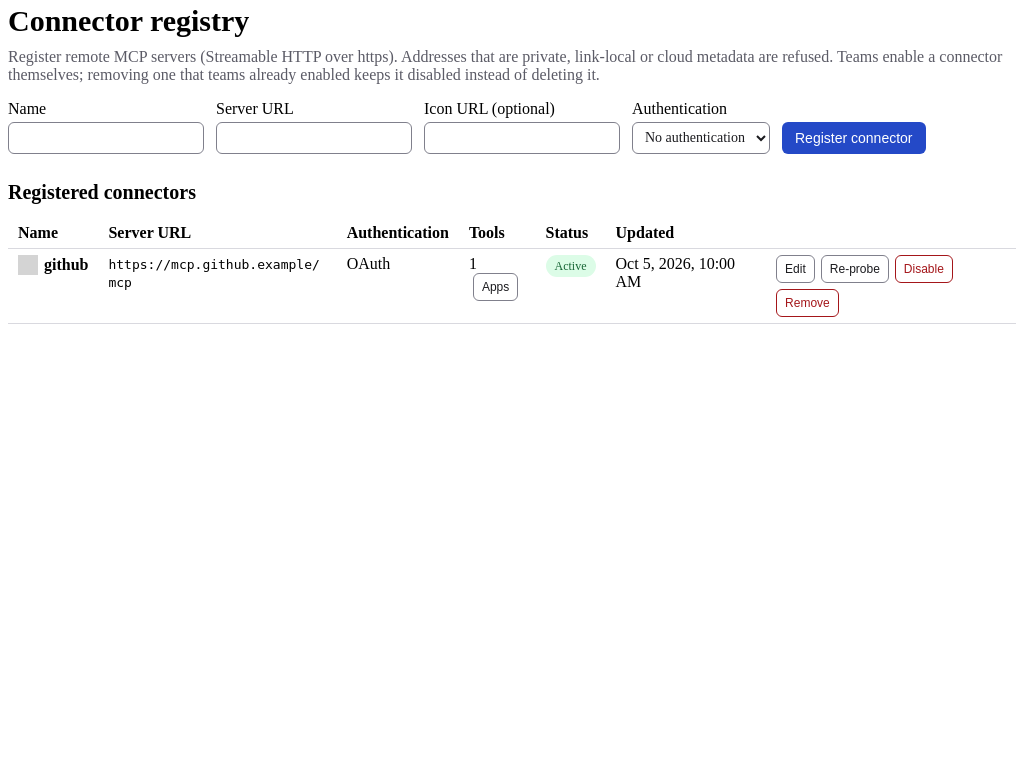
app placement (KOBE-531) › says when it was not saved and keeps the old value
The image size is (1024, 762).
Click the button named "Apps of github". click: (496, 286)
box: [473,272,518,300]
(page scrolled)
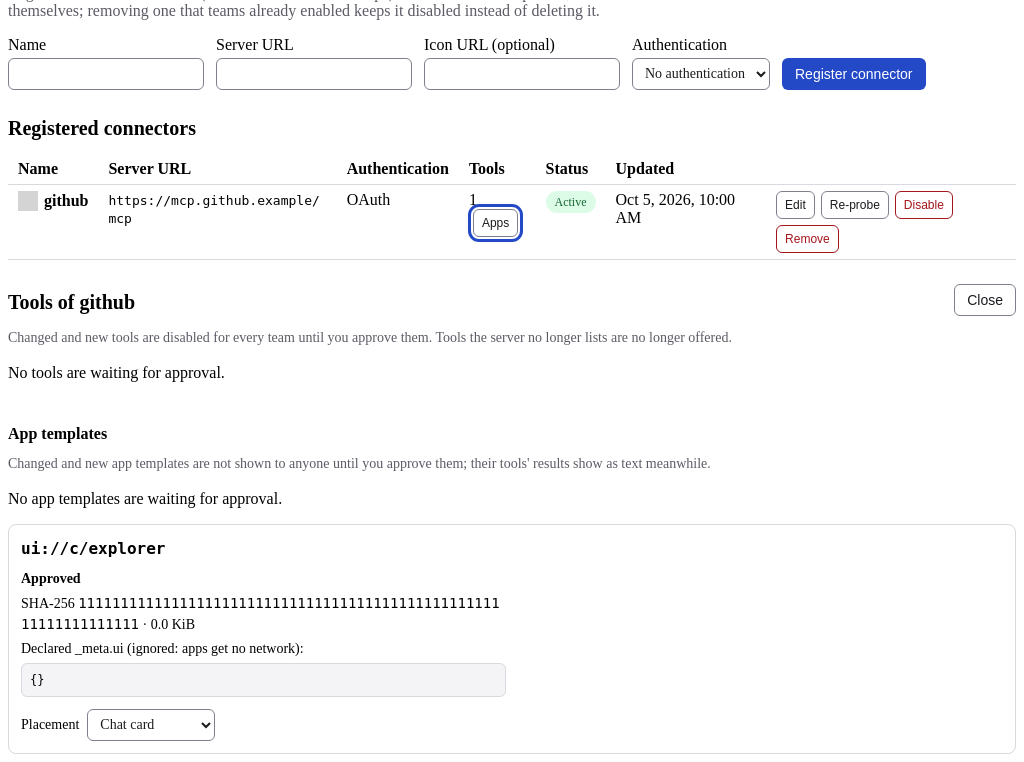
Select "Rail" in the dropdown labelled "Placement". click: (151, 724)
box: [87,708,215,740]
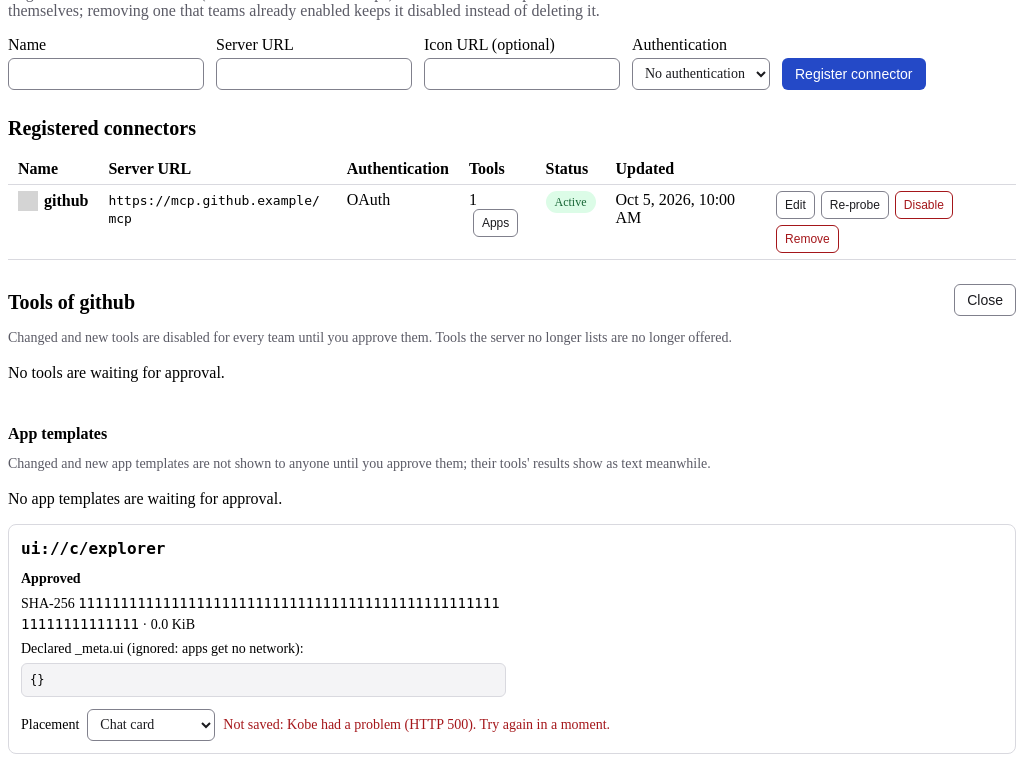
Expected: the text "Not saved: Kobe had a problem (HTTP 500). Try again in a moment." is shown, [223,714,610,734]
